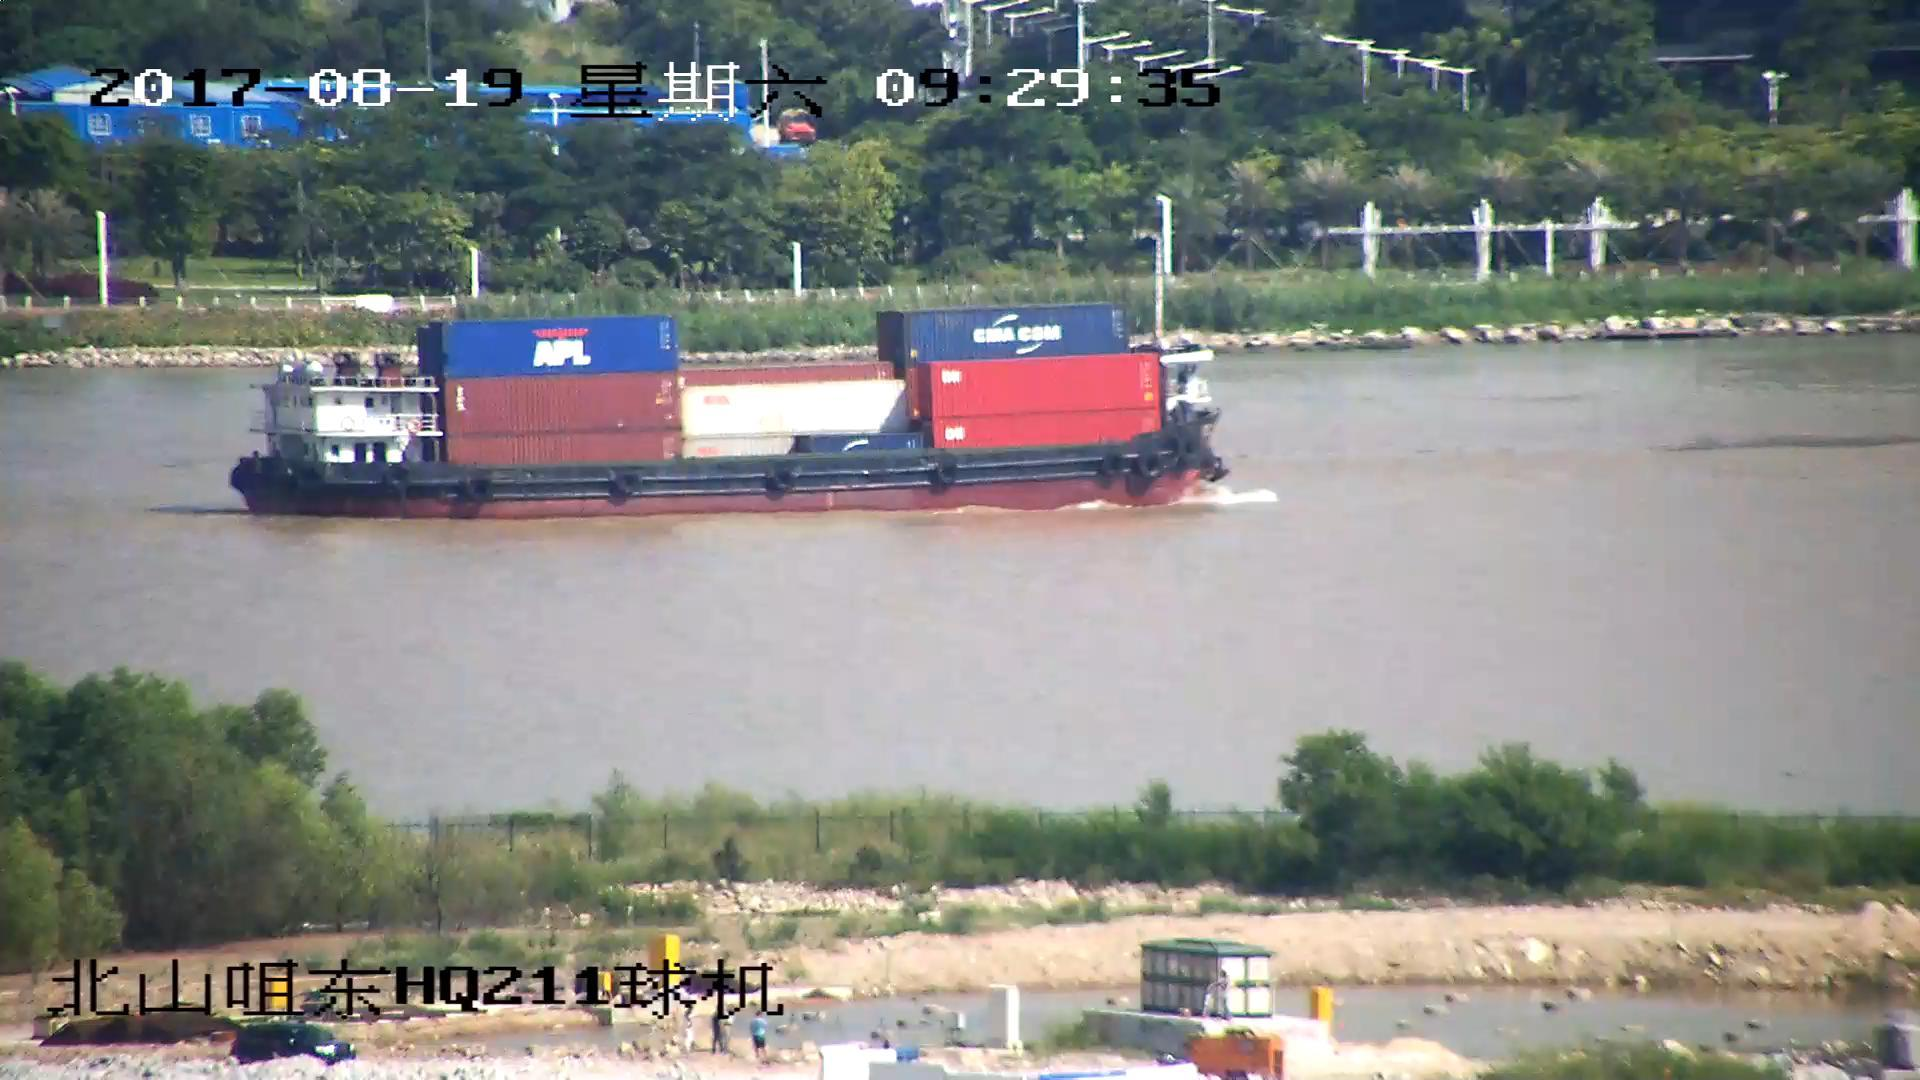Ship: (225, 251, 1236, 517)
